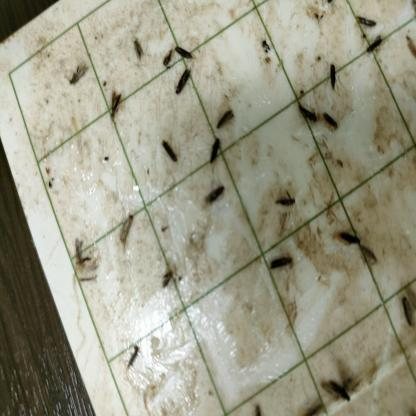prays_oleae: (322, 375, 352, 407), (160, 130, 178, 171), (268, 247, 296, 273), (111, 216, 136, 245), (67, 238, 90, 269), (64, 61, 86, 91), (296, 99, 318, 129), (205, 135, 223, 170), (202, 184, 225, 211), (336, 226, 358, 252), (275, 190, 297, 216), (171, 69, 193, 94), (121, 343, 141, 369), (214, 104, 234, 130), (361, 236, 377, 267), (326, 59, 340, 94), (321, 104, 337, 134), (354, 12, 378, 32), (400, 296, 414, 327), (106, 90, 121, 118), (174, 42, 195, 62), (131, 34, 145, 63), (366, 32, 384, 54), (160, 270, 174, 286)
